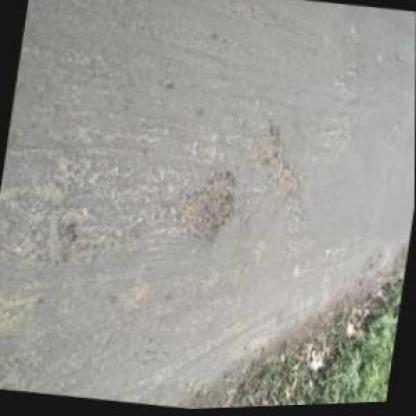pothole: (173, 164, 244, 251), (251, 126, 309, 205), (48, 220, 78, 260)
